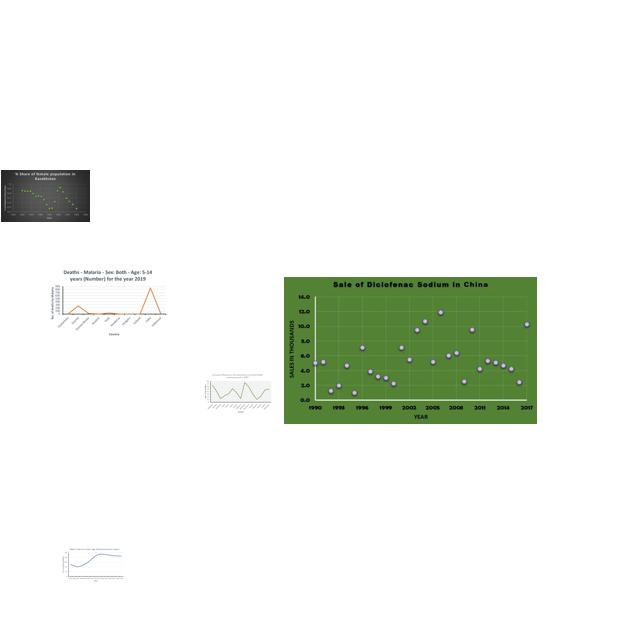Graph: (284, 277, 537, 424), (48, 268, 168, 337), (1, 170, 90, 222), (203, 373, 273, 414), (61, 547, 124, 583)
